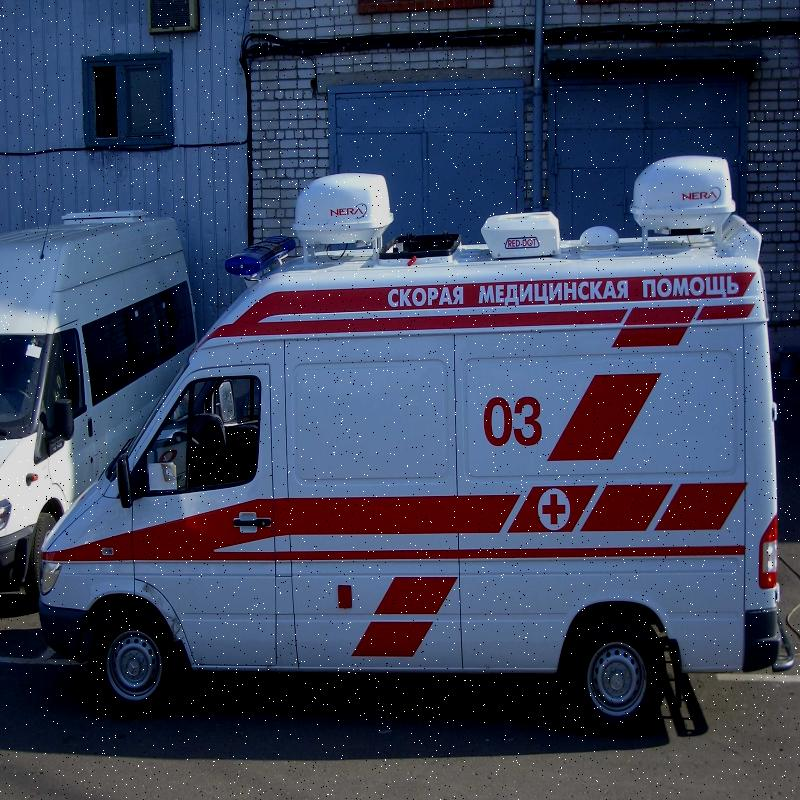AmbulanceSiren: (227, 204, 291, 324)
